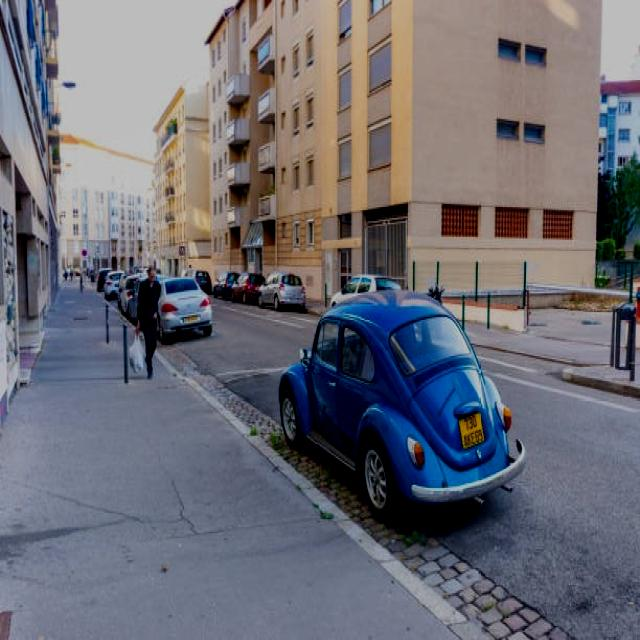car: (275, 290, 522, 511), (156, 276, 214, 335), (255, 275, 310, 312)
